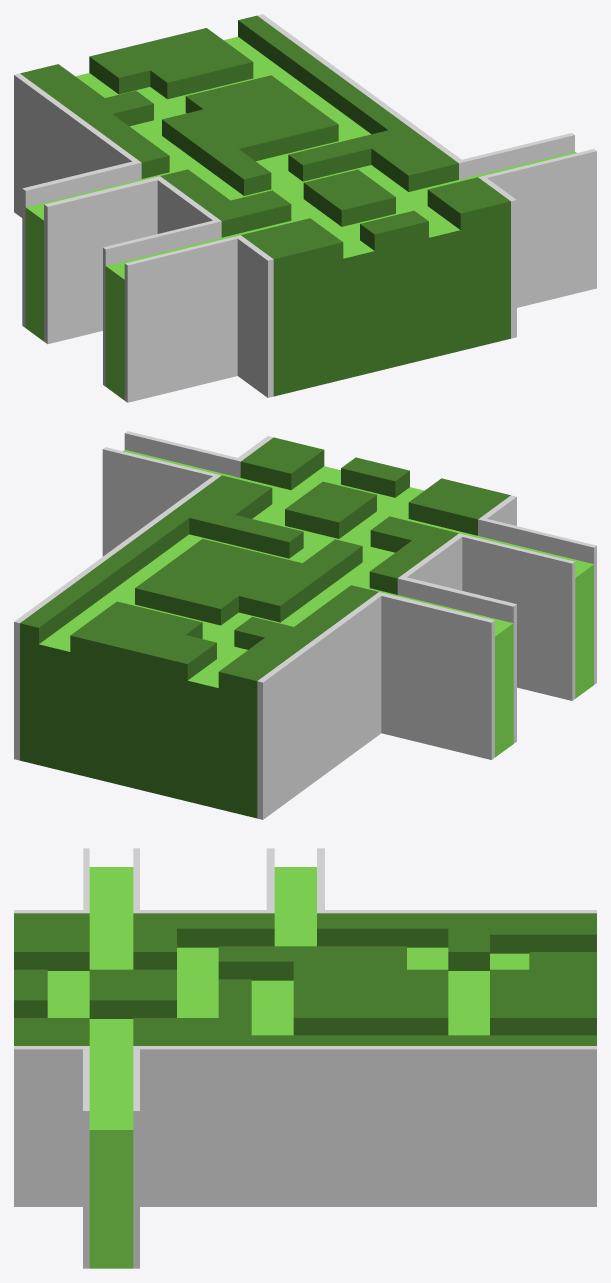
File: kenarlı 2.fbx
The picture shows the model from 3 angles, top to bottom: view 1: azimuth 30°, elevation 25°; view 2: azimuth 150°, elevation 25°; view 3: azimuth 270°, elevation 25°; orthographic projection. The views are drawn at different scales.
Visible parts, largest first — view 1: Plane; view 2: Plane; view 3: Plane.
Boxes of the visible parts, x1,y1,x2,y2 form: Plane: (14, 14, 596, 402); Plane: (14, 431, 596, 819); Plane: (14, 848, 596, 1268).
Bounding box in the file's own units: 5966 × 1668 × 5590.
